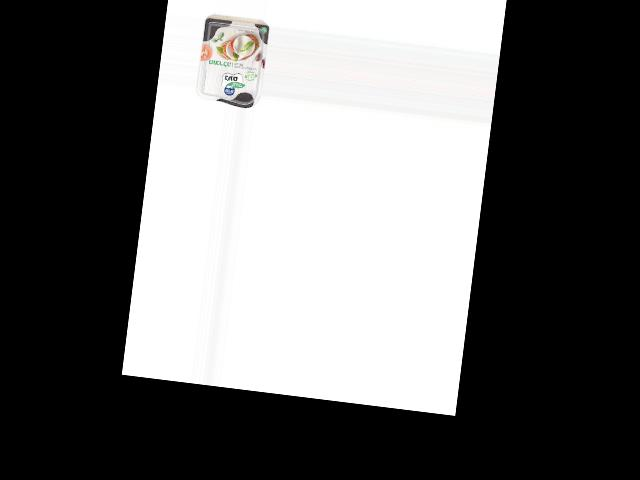cheese: (194, 16, 269, 108)
